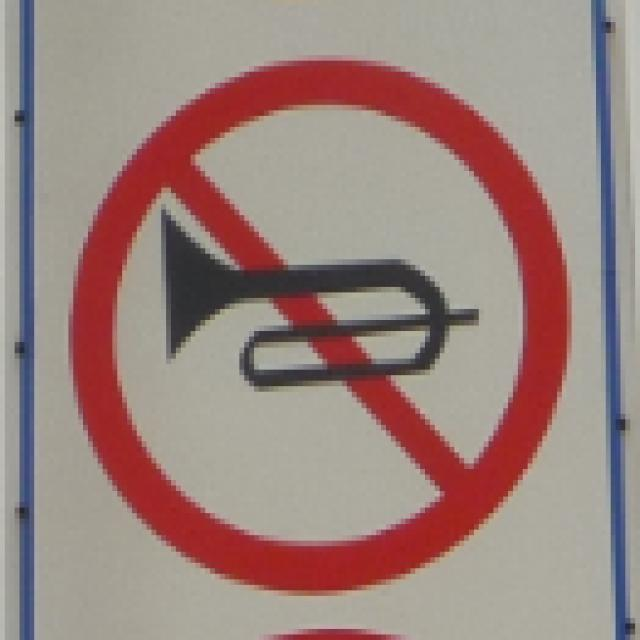No Horn: (69, 54, 576, 599)
